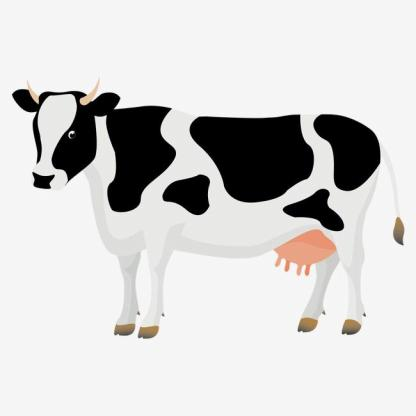cow: (13, 87, 404, 338)
